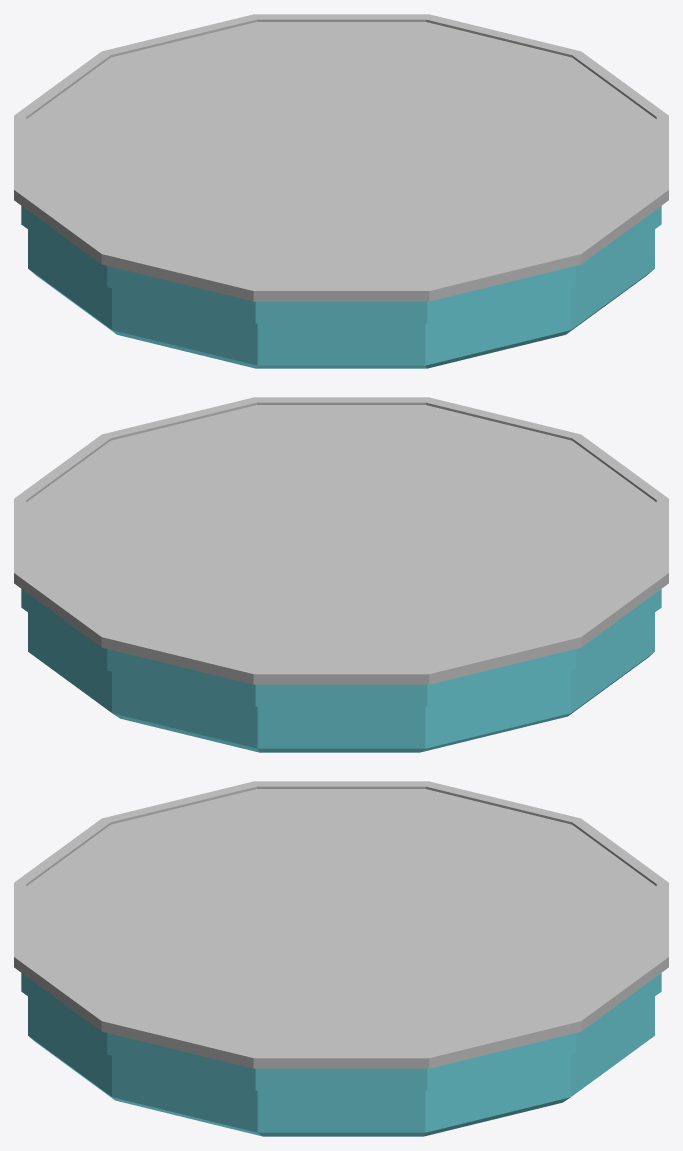
File: SM_Sample_Bowl_With_Sample.gltf
3 views of the same model, one above another, from view 1: azimuth 30°, elevation 25°; view 2: azimuth 150°, elevation 25°; view 3: azimuth 270°, elevation 25° (orthographic).
Parts seen in each view (by area): view 1: SM_Sample_Bowl_Lid_With_Sample, SM_Sample_Bowl_With_Sample; view 2: SM_Sample_Bowl_Lid_With_Sample, SM_Sample_Bowl_With_Sample; view 3: SM_Sample_Bowl_Lid_With_Sample, SM_Sample_Bowl_With_Sample.
Boxes of the visible parts, left/top/right/bottom form: SM_Sample_Bowl_Lid_With_Sample: left=14, top=14, right=668, bottom=301; SM_Sample_Bowl_With_Sample: left=21, top=206, right=661, bottom=368; SM_Sample_Bowl_Lid_With_Sample: left=14, top=397, right=668, bottom=684; SM_Sample_Bowl_With_Sample: left=21, top=589, right=661, bottom=752; SM_Sample_Bowl_Lid_With_Sample: left=14, top=781, right=668, bottom=1068; SM_Sample_Bowl_With_Sample: left=21, top=973, right=661, bottom=1136.
Bounding box in the file's own units: 0.1009 × 0.0148 × 0.1009.
